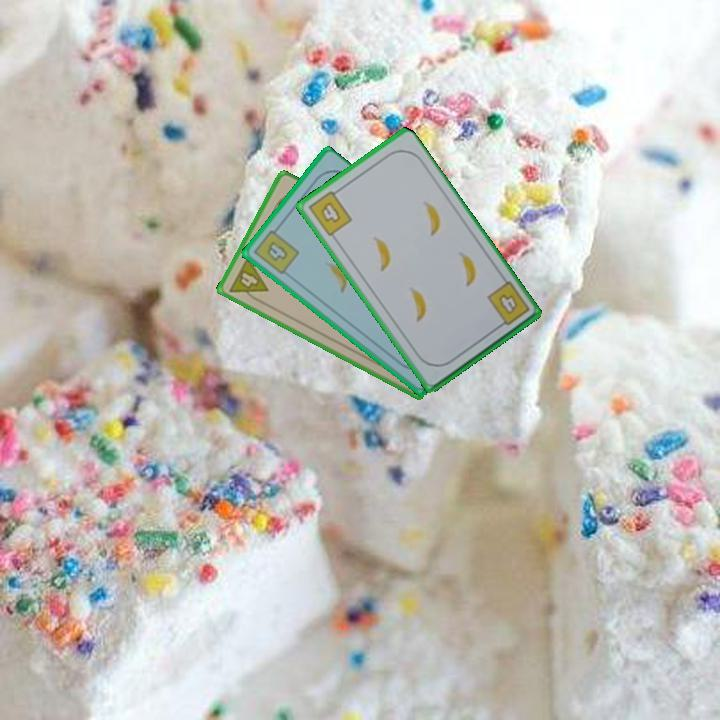4b: (250, 222, 302, 278), (304, 185, 355, 239), (483, 278, 532, 332)
4p: (226, 253, 271, 306)
